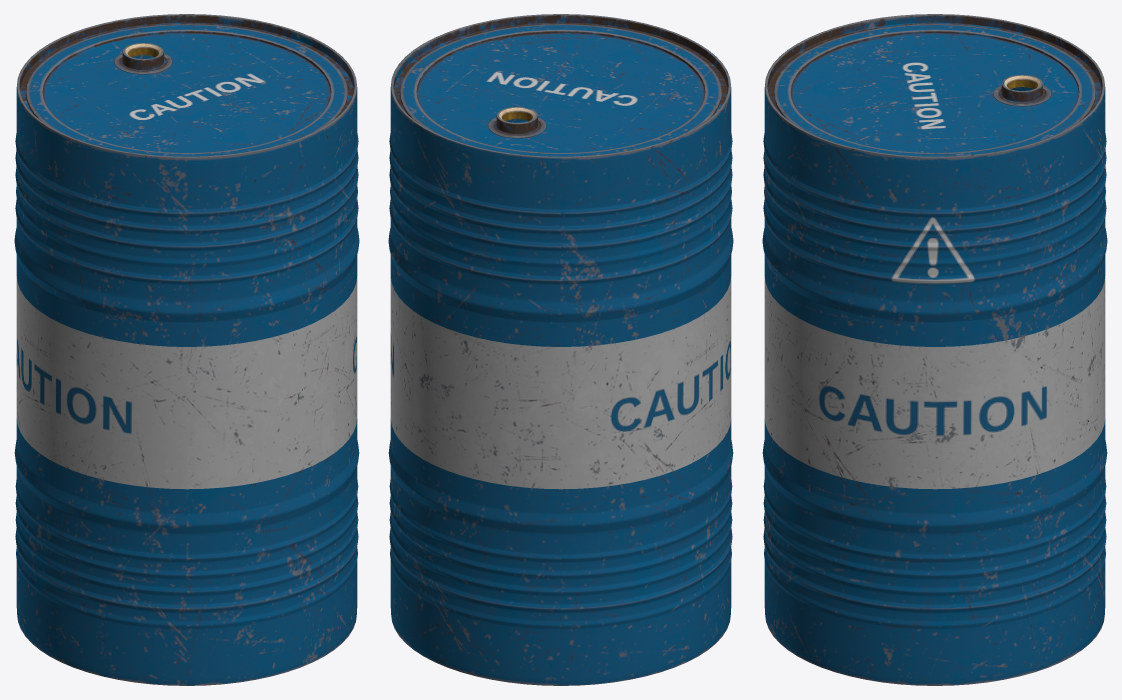
File: steel_drum_-_3d_asset.glb
The picture shows the model from 3 angles, left to right: view 1: azimuth 30°, elevation 25°; view 2: azimuth 150°, elevation 25°; view 3: azimuth 270°, elevation 25°; orthographic projection.
Parts seen in each view (by area): view 1: pCylinder1; view 2: pCylinder1; view 3: pCylinder1.
Boxes of the visible parts, x1,y1,x2,y2 form: pCylinder1: [14, 14, 359, 685]; pCylinder1: [388, 14, 733, 685]; pCylinder1: [762, 14, 1107, 685].
Size of the model in its own units: 2.55 by 4.32 by 2.55.
3 materials, 3 textured.
